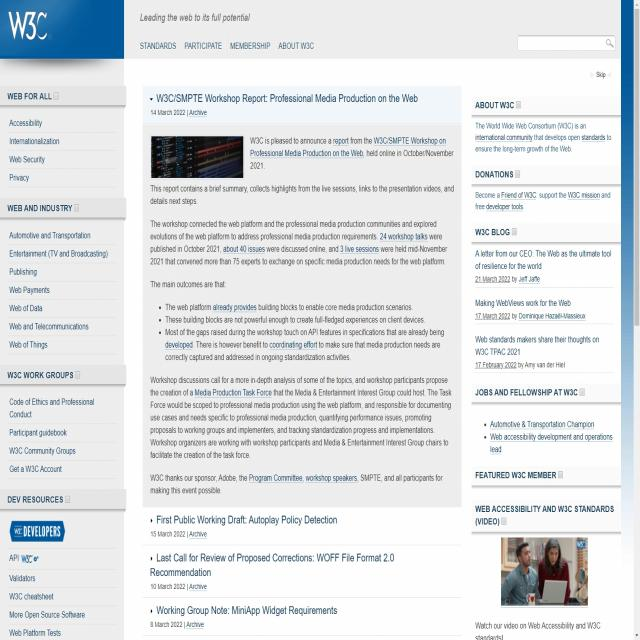menu-bar: (133, 33, 320, 59)
search: (515, 32, 617, 52)
